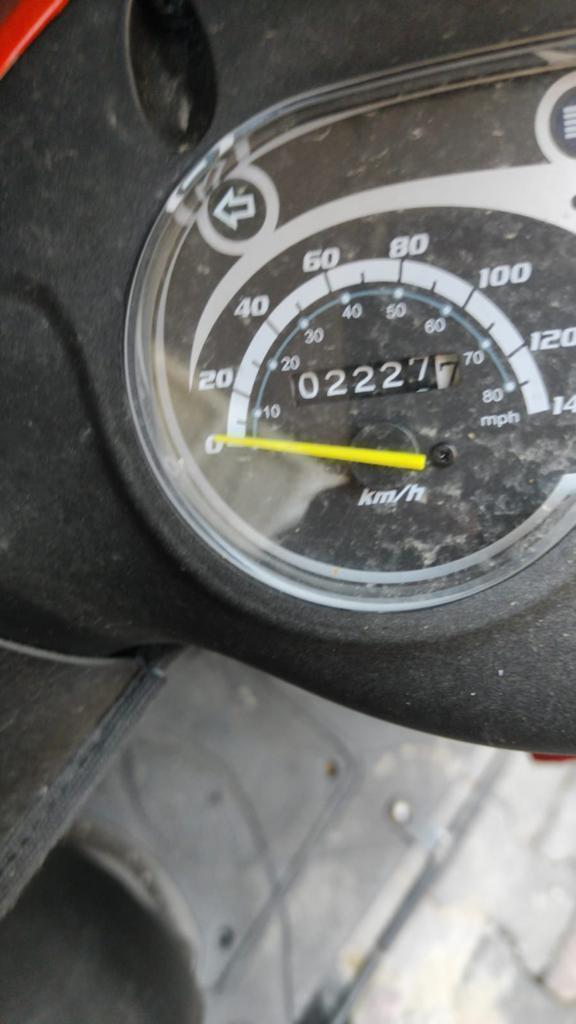0: (297, 370, 319, 400), (290, 354, 300, 370)
2: (350, 364, 376, 394), (379, 360, 404, 390), (323, 368, 347, 397)
7: (407, 353, 429, 381), (440, 361, 458, 387)
odometer: (289, 349, 463, 408)
